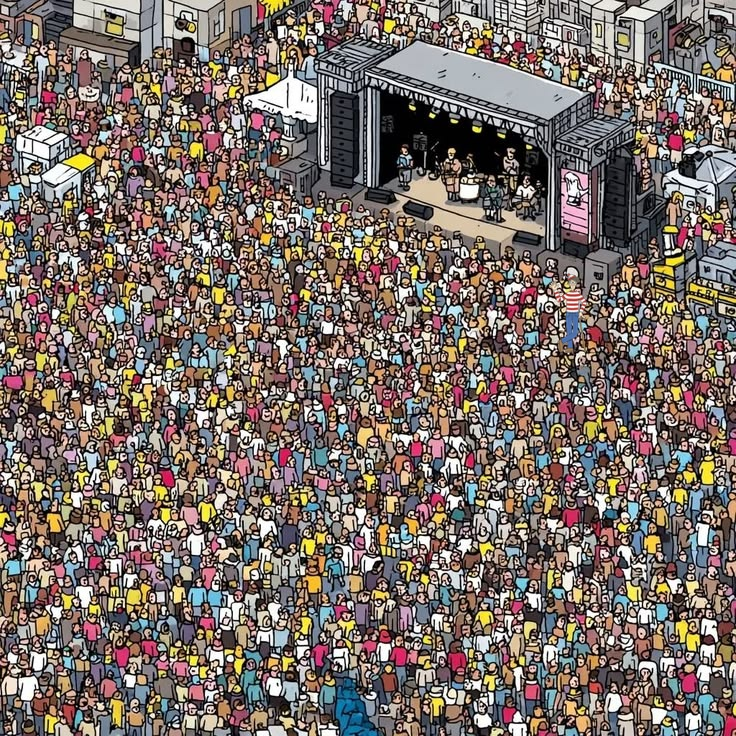waldo: (549, 273, 587, 353)
